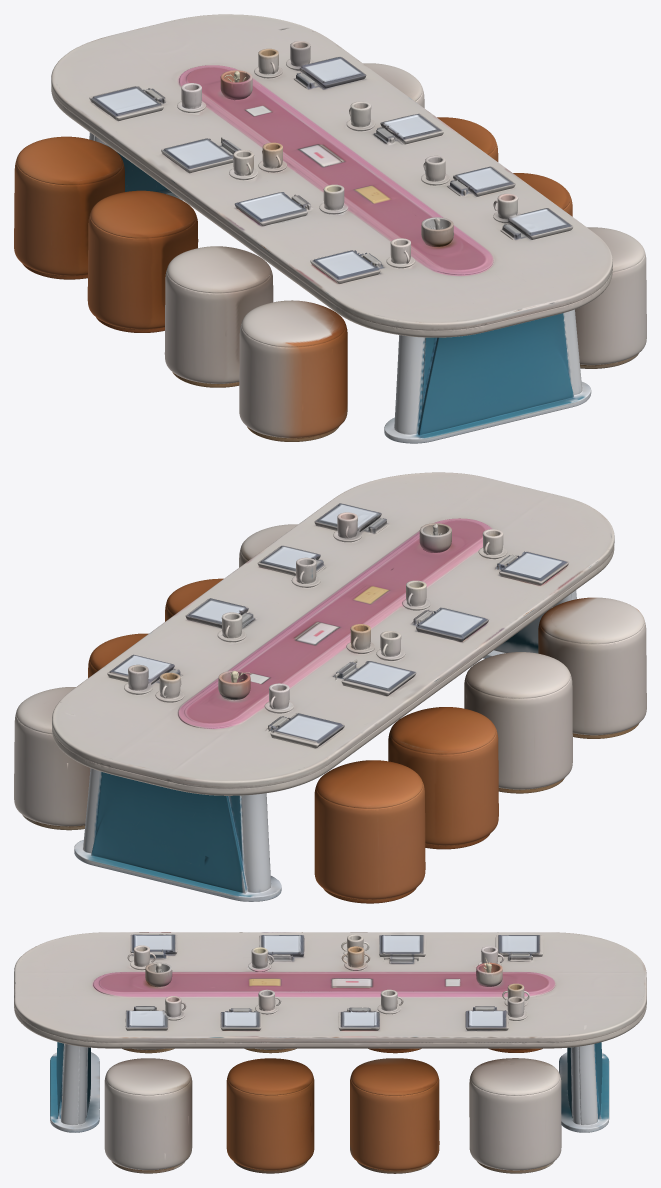
Rendered from SM_F_MeetingTable.glb.
3 views of the same model, one above another, from view 1: azimuth 30°, elevation 25°; view 2: azimuth 150°, elevation 25°; view 3: azimuth 270°, elevation 25° (orthographic). The views are drawn at different scales.
Visible parts, largest first — view 1: SM_F_MeetingTable; view 2: SM_F_MeetingTable; view 3: SM_F_MeetingTable.
Part boxes in pixels (left/top/right/bottom): SM_F_MeetingTable: left=14, top=14, right=646, bottom=443; SM_F_MeetingTable: left=14, top=472, right=646, bottom=903; SM_F_MeetingTable: left=14, top=932, right=646, bottom=1173.
Size of the model in its own units: 2.85 by 1.12 by 4.8.
Materials: 1 (1 with a texture image).
